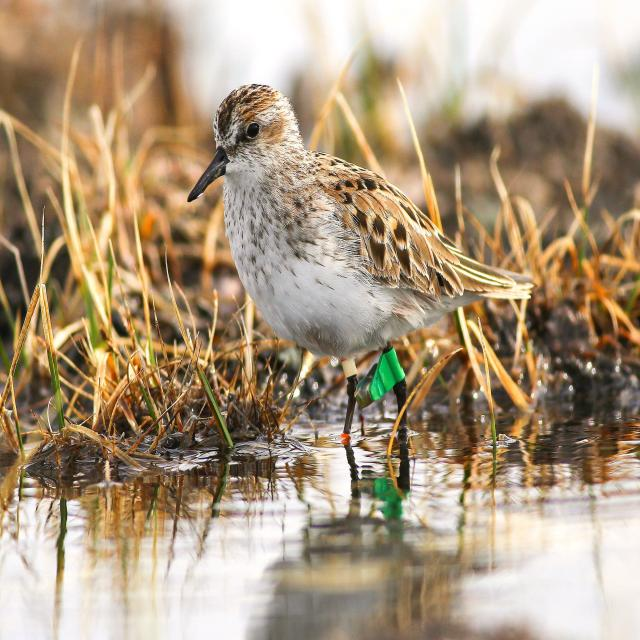Sandpiper: (185, 68, 525, 450)
